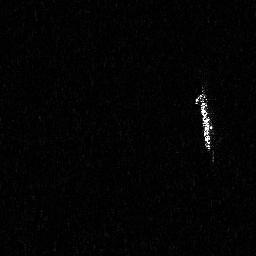ship: (195, 83, 220, 166)
